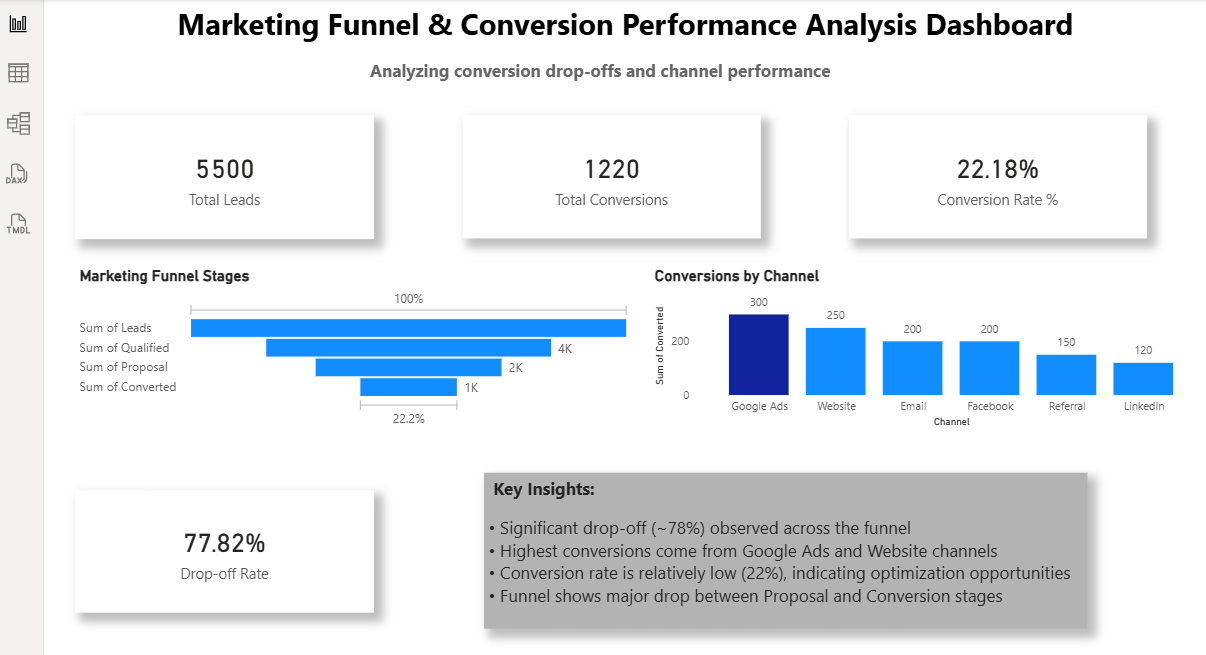

The dashboard page shown, as its layout file describes it:
{"tool":"powerbi","page":{"name":"Page 1","canvas":[1280,720],"ordinal":0},"visuals":[{"type":"card","fields":{"Values":["Sum(marketing_funnel_dataset.Leads)"]},"box":[34.3,127.6,328,135.8],"z":0},{"type":"card","fields":{"Values":["Sum(marketing_funnel_dataset.Converted)"]},"box":[459.5,127.6,327,135],"z":1000},{"type":"card","fields":{"Values":["marketing_funnel_dataset.Conversion Rate %"]},"box":[883.7,127.6,327,135],"z":2000},{"type":"textbox","box":[34.3,0,1181.5,60.4],"z":3000},{"type":"textbox","box":[20.6,60.4,1180.1,41.2],"z":4000},{"type":"funnel","title":"Marketing Funnel Stages","fields":{"Y":["Sum(marketing_funnel_dataset.Leads)","Sum(marketing_funnel_dataset.Qualified)","Sum(marketing_funnel_dataset.Proposal)","Sum(marketing_funnel_dataset.Converted)"]},"box":[34.3,293.7,615,181.1],"z":5000},{"type":"clusteredColumnChart","title":"Conversions by Channel","fields":{"Category":["marketing_funnel_dataset.Channel"],"Y":["Sum(marketing_funnel_dataset.Converted)"]},"box":[665.5,293.7,615,181.1],"z":6000},{"type":"card","fields":{"Values":["marketing_funnel_dataset.Drop-off Rate"]},"box":[34.3,539.3,328,134.5],"z":7000},{"type":"textbox","box":[483,520.1,662.8,171.5],"z":8000}]}

Visuals, with their boxes on the page's 1280x720 design canvas (x1, y1, x2, y2). These are canvas units, not pixel positions in the 1206x655 screenshot, which may show the page scaled, cropped or inside an application window:
card - Sum(marketing_funnel_dataset.Leads): {"x1": 34, "y1": 128, "x2": 362, "y2": 263}
card - Sum(marketing_funnel_dataset.Converted): {"x1": 460, "y1": 128, "x2": 786, "y2": 263}
card - marketing_funnel_dataset.Conversion Rate %: {"x1": 884, "y1": 128, "x2": 1211, "y2": 263}
textbox: {"x1": 34, "y1": 0, "x2": 1216, "y2": 60}
textbox: {"x1": 21, "y1": 60, "x2": 1201, "y2": 102}
"Marketing Funnel Stages" funnel: {"x1": 34, "y1": 294, "x2": 649, "y2": 475}
"Conversions by Channel" clusteredColumnChart: {"x1": 666, "y1": 294, "x2": 1280, "y2": 475}
card - marketing_funnel_dataset.Drop-off Rate: {"x1": 34, "y1": 539, "x2": 362, "y2": 674}
textbox: {"x1": 483, "y1": 520, "x2": 1146, "y2": 692}
